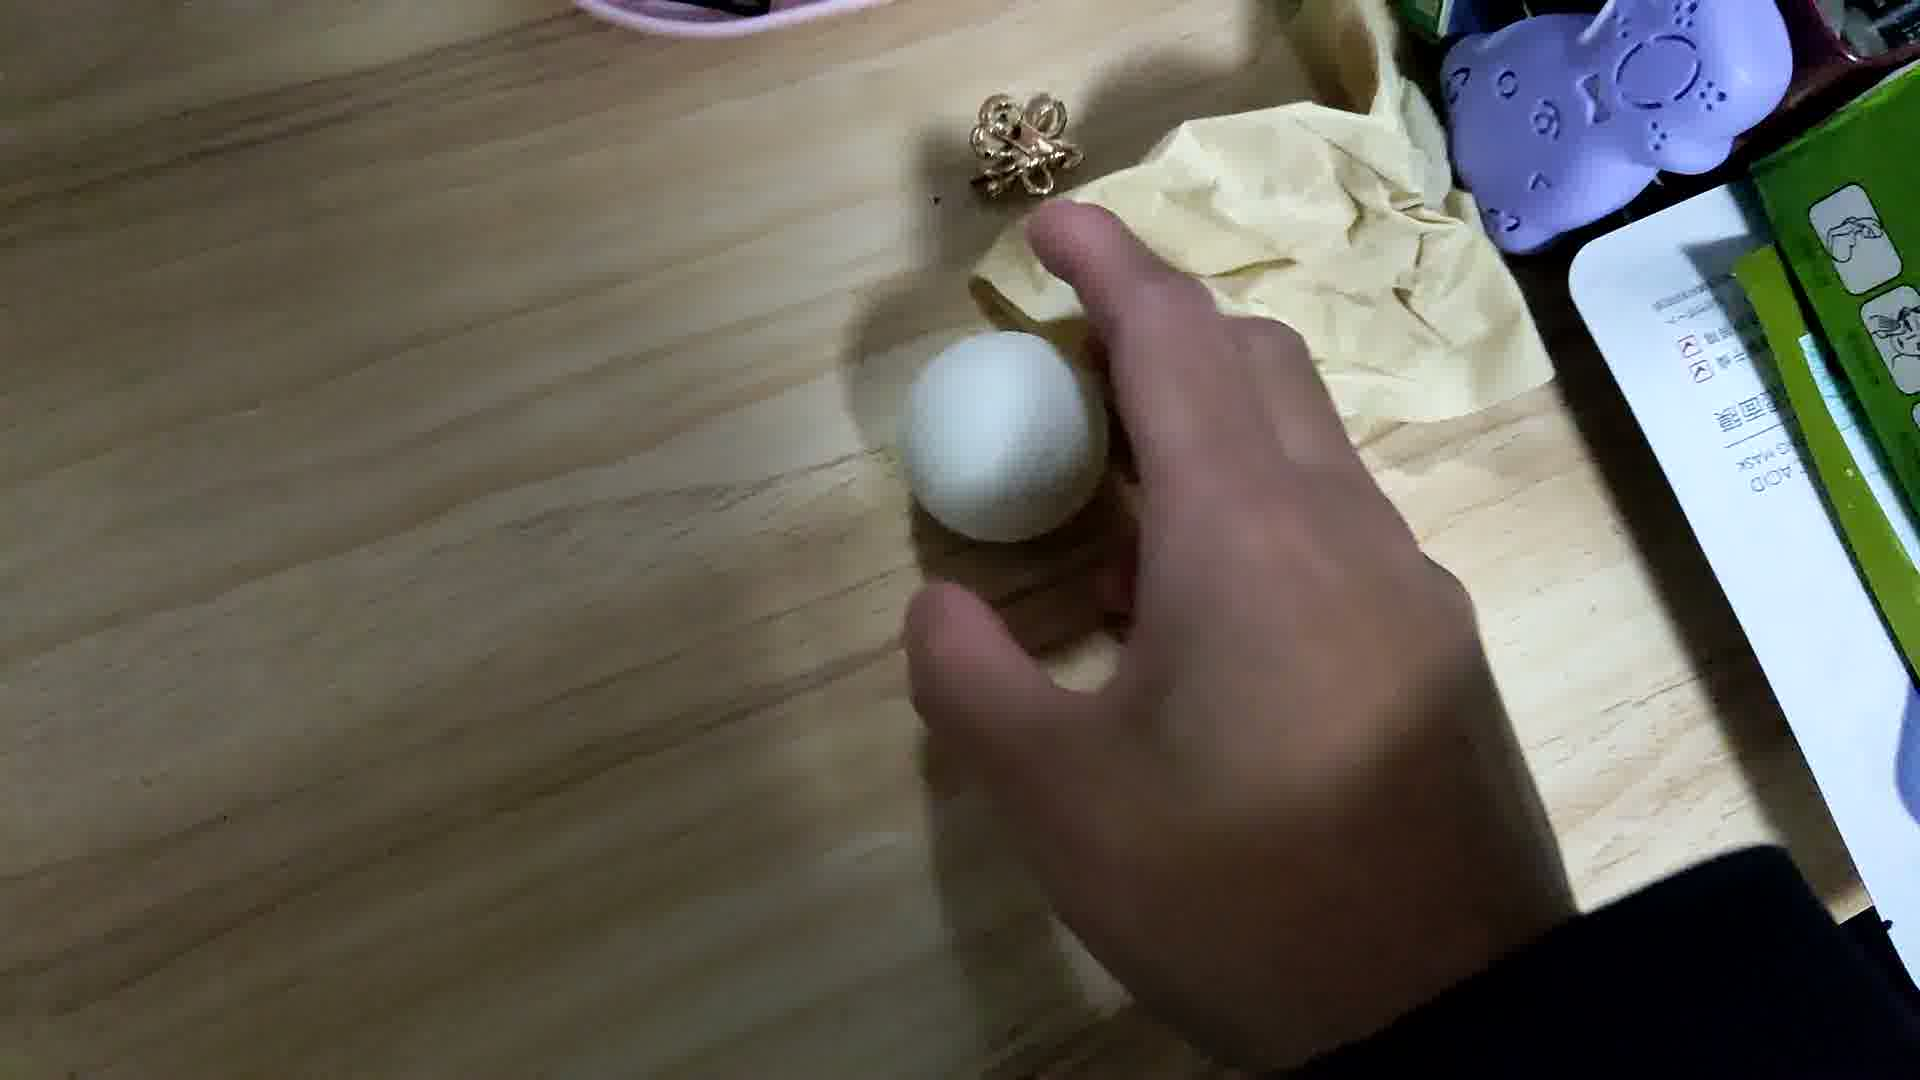Ball: (909, 332, 1106, 549)
